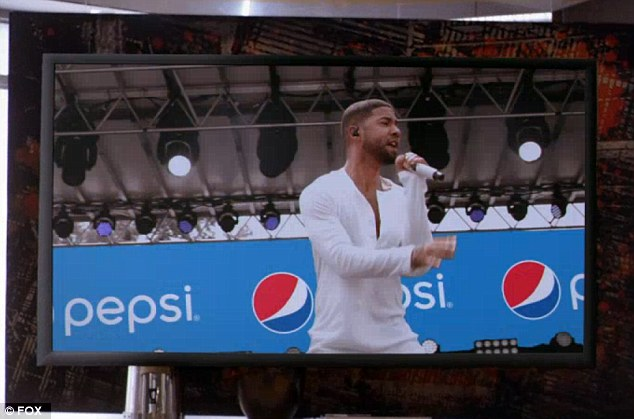pepsi: (252, 270, 312, 333), (500, 256, 560, 319), (500, 258, 560, 319)
